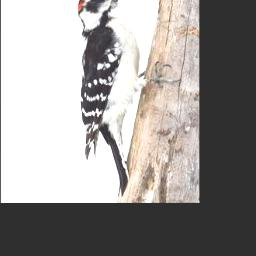Woodpecker: (75, 0, 182, 197)
